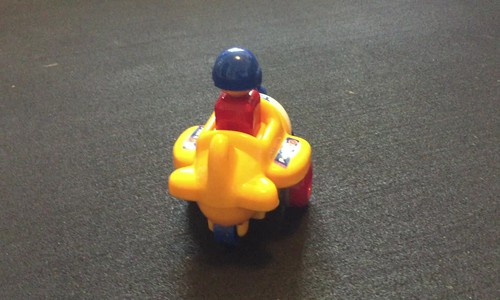toy: (160, 38, 325, 244)
